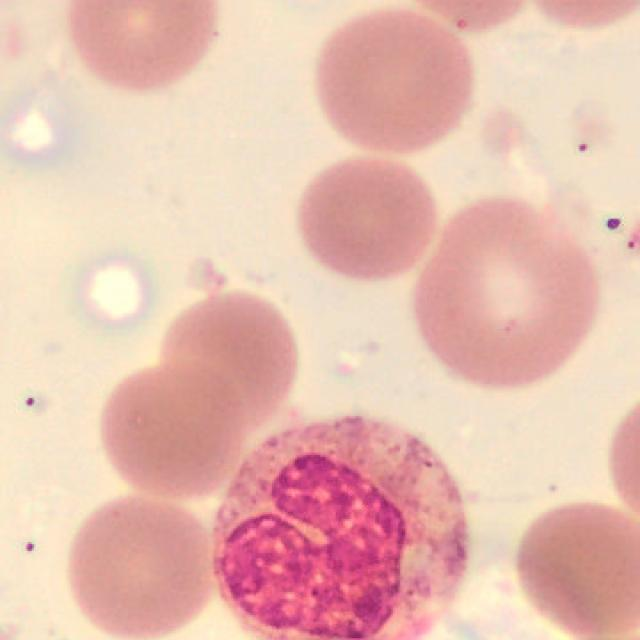Bastonete: (212, 418, 469, 640)
